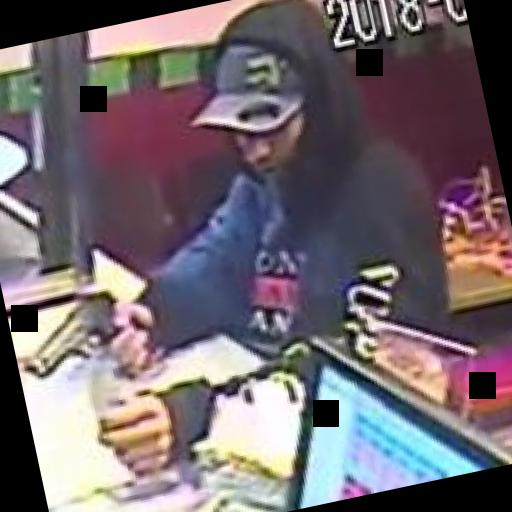Handgun: (4, 274, 155, 390)
